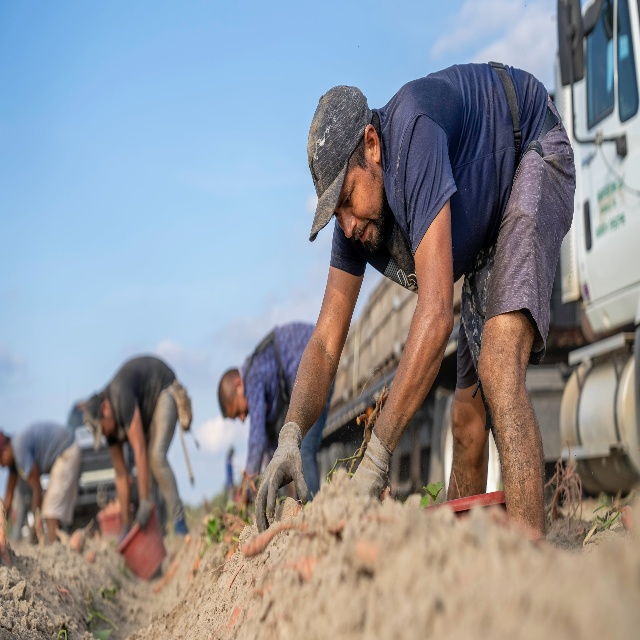Guantes: (254, 421, 306, 534), (352, 424, 392, 501), (136, 500, 151, 526)
